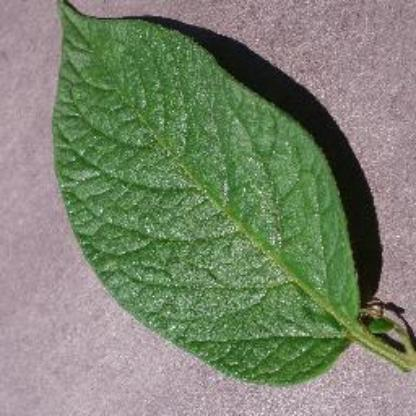Healthy-plant: (44, 0, 408, 390)
